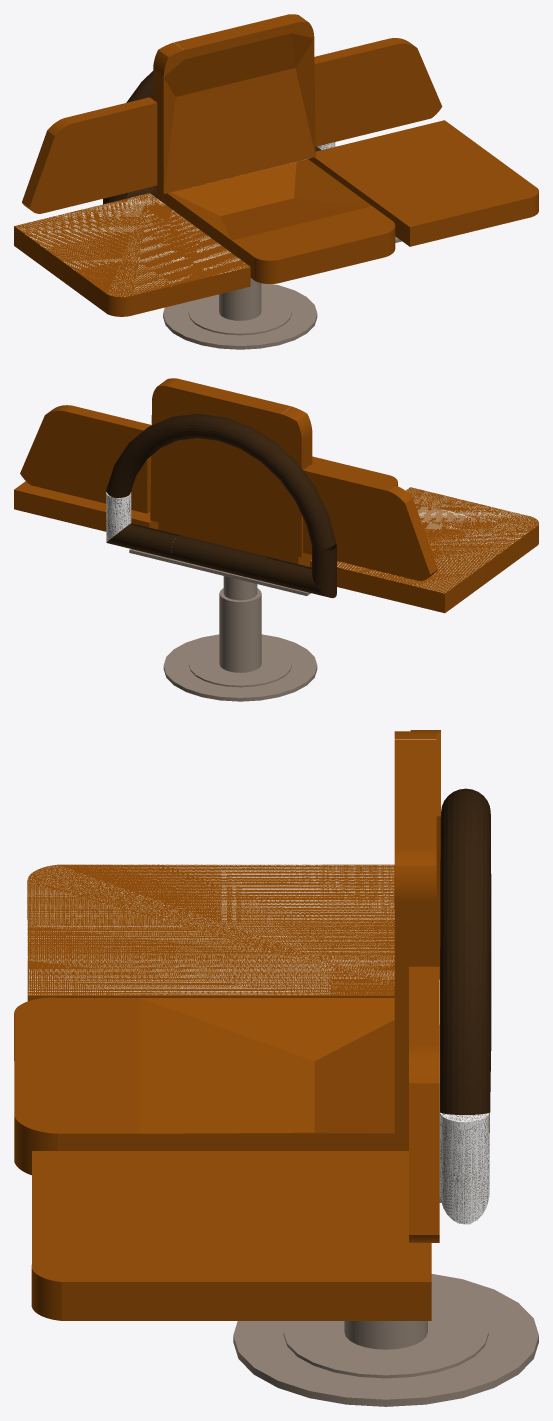
File: tardisChair.dae
3 views of the same model, one above another, from view 1: azimuth 30°, elevation 25°; view 2: azimuth 150°, elevation 25°; view 3: azimuth 270°, elevation 25° (orthographic). The views are drawn at different scales.
Visible parts, largest first — view 1: SketchUp (×9); view 2: SketchUp (×15); view 3: SketchUp (×10).
Part boxes in pixels (x1,y1,x2,y2): SketchUp (×9): [14, 14, 538, 349]; SketchUp (×15): [14, 378, 538, 701]; SketchUp (×10): [14, 730, 538, 1406].
Size of the model in its own units: 54.46 by 28.98 by 33.56.
